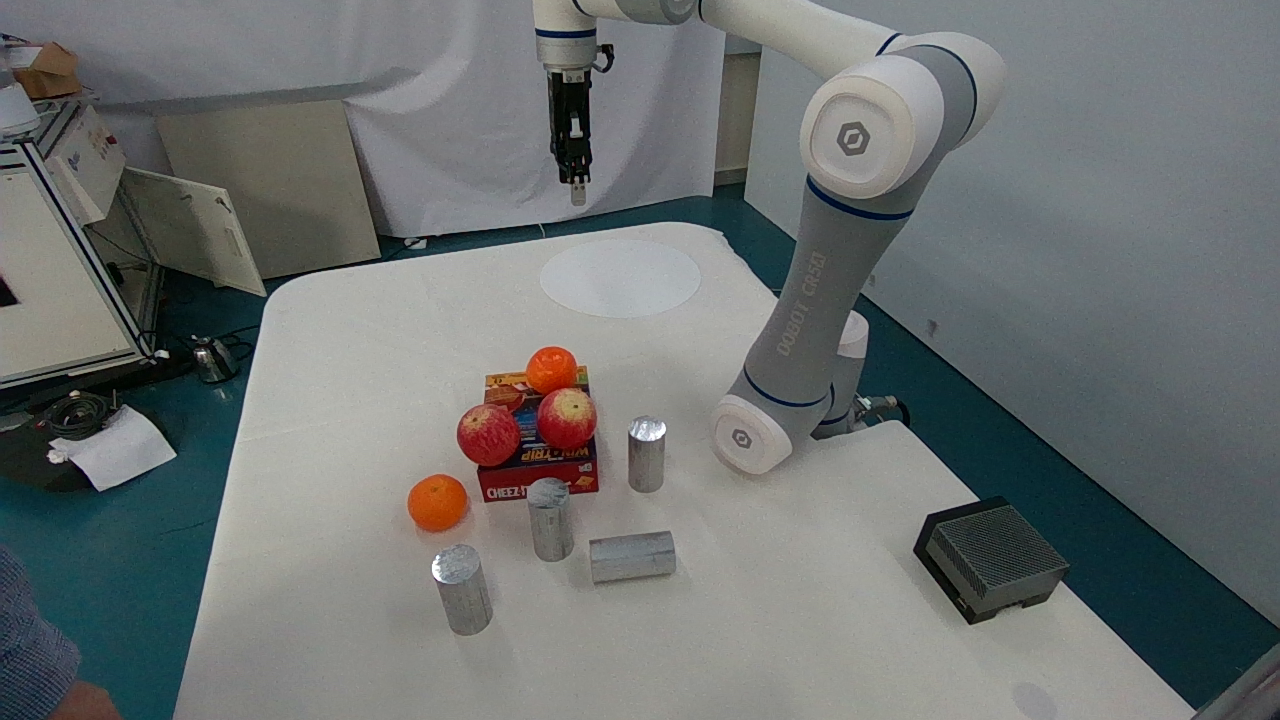apple: (450, 395, 522, 467), (529, 384, 609, 447)
metal rod: (405, 524, 510, 646), (580, 515, 690, 593), (510, 468, 581, 565), (616, 408, 684, 498)
orange: (513, 324, 599, 395), (402, 462, 479, 531)
